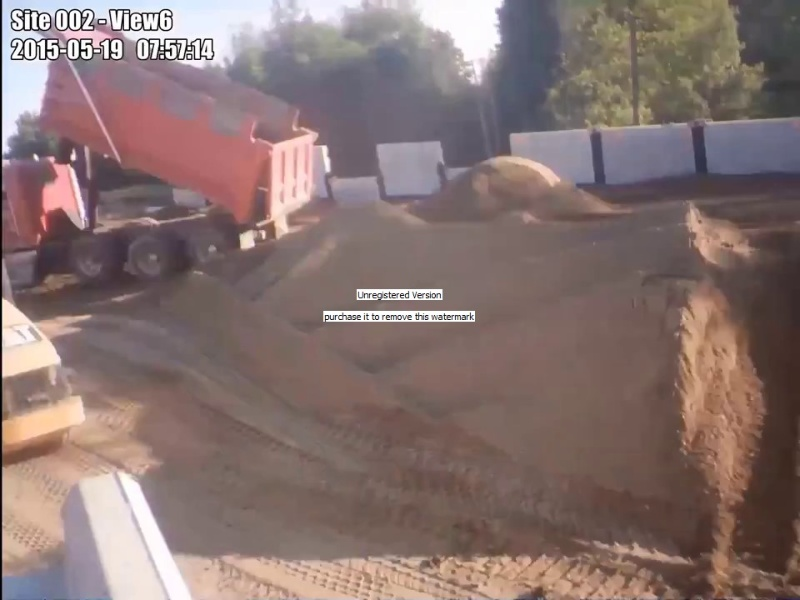dumptruck: (1, 16, 320, 291)
roller: (1, 295, 87, 465)
wall: (328, 116, 800, 203)
